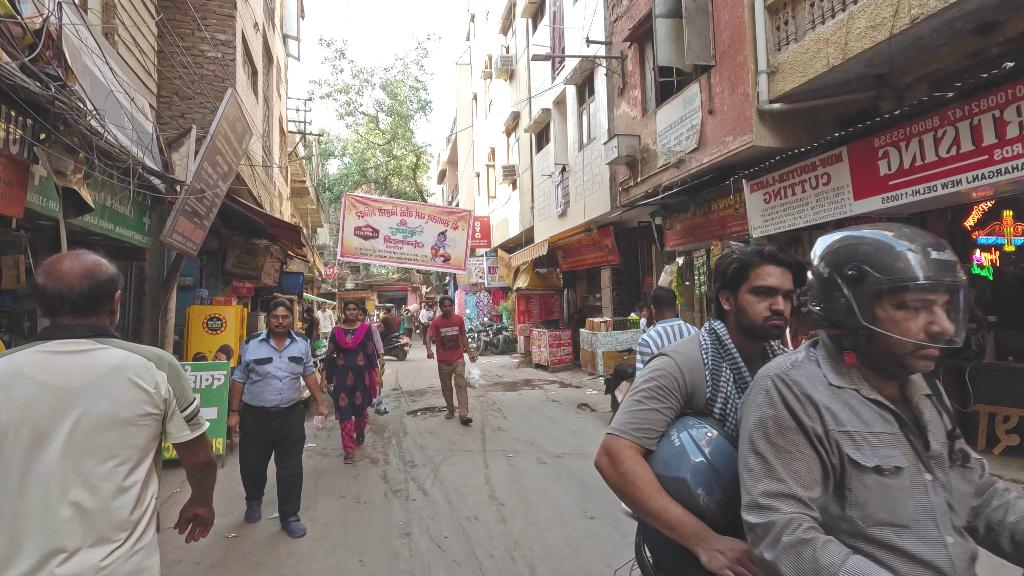garbage: (464, 359, 485, 387), (371, 391, 391, 415)
